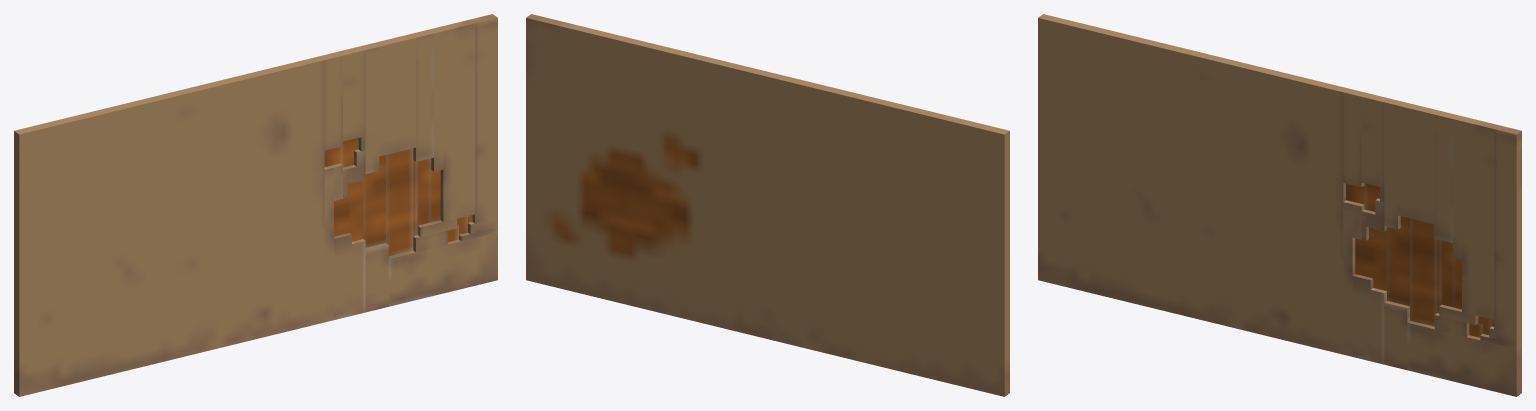
The model's file is WallBackModeratelyDamaged_00.fbx.
3 renders of one model, left to right at view 1: azimuth 30°, elevation 25°; view 2: azimuth 150°, elevation 25°; view 3: azimuth 330°, elevation 25°, orthographic.
Visible parts, largest first — view 1: WallBackModeratelyDamaged_00; view 2: WallBackModeratelyDamaged_00; view 3: WallBackModeratelyDamaged_00.
Boxes of the visible parts, x1,y1,x2,y2 form: WallBackModeratelyDamaged_00: (14,14,497,396); WallBackModeratelyDamaged_00: (526,14,1009,396); WallBackModeratelyDamaged_00: (1038,14,1521,396).
Bounding box in the file's own units: 525 × 10 × 275.
Materials: 1 (1 with a texture image).
